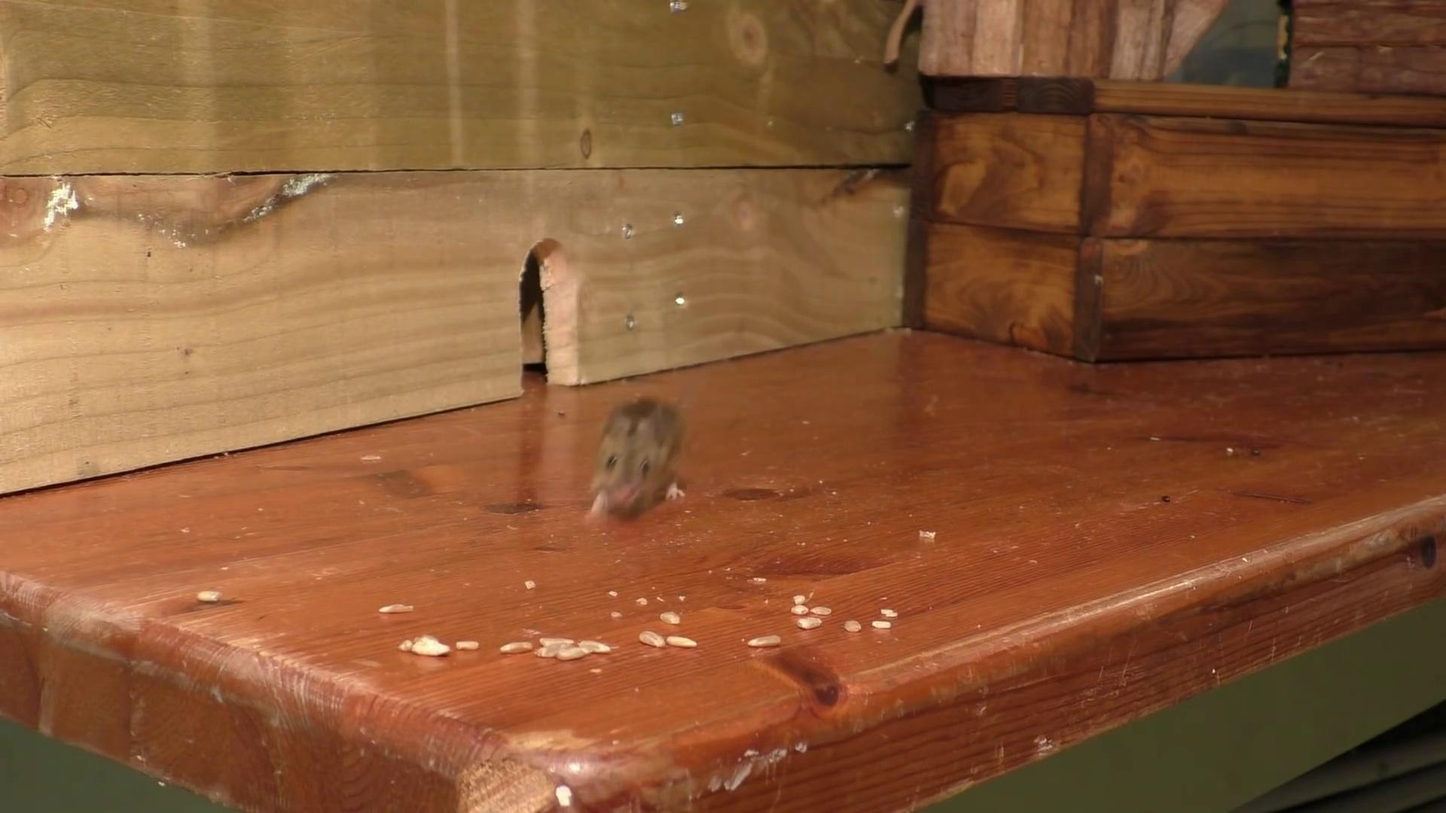rat: (593, 402, 686, 517)
